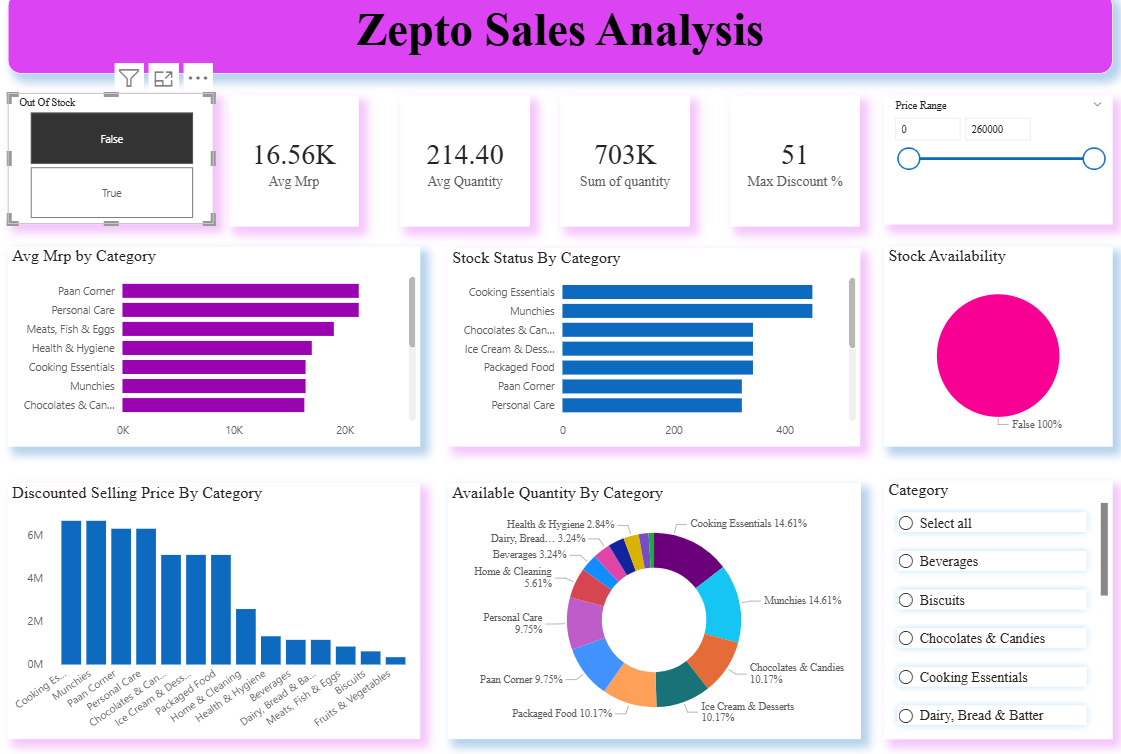

What the dashboard file says about the page in this screenshot:
{"tool":"powerbi","page":{"name":"Page 1","canvas":[1280,900],"ordinal":0},"visuals":[{"type":"textbox","box":[9.6,0,1259.7,91.9],"z":0},{"type":"card","fields":{"Values":["zepto_v2.Avg Mrp"]},"box":[262.3,116.9,148.2,149.7],"z":1000},{"type":"card","fields":{"Values":["zepto_v2.Avg Quantity"]},"box":[457.6,116.9,148.2,149.7],"z":2000},{"type":"card","fields":{"Values":["Sum(zepto_v2.quantity)"]},"box":[640,116.9,148.2,149.7],"z":3000},{"type":"clusteredBarChart","fields":{"Y":["zepto_v2.Avg Mrp"],"Category":["zepto_v2.Category"]},"box":[9.6,289.5,470.7,227.8],"z":4000},{"type":"pieChart","title":"Stock Availability ","fields":{"Category":["zepto_v2.outOfStock"],"Y":["CountNonNull(zepto_v2.quantity)"]},"box":[1008.6,289.5,260.7,227.8],"z":5000},{"type":"listSlicer","fields":{"Values":["zepto_v2.Category"]},"box":[1009.2,555.9,260.8,295.1],"z":6000},{"type":"card","fields":{"Values":["zepto_v2.Max Discount %"]},"box":[833.9,116.9,148.2,149.7],"z":7000},{"type":"slicer","fields":{"Values":["zepto_v2.outOfStock"]},"box":[10,114,235.2,149.7],"z":8000},{"type":"clusteredBarChart","title":"Stock Status By Category","fields":{"Category":["zepto_v2.Category"],"Y":["CountNonNull(zepto_v2.outOfStock)"]},"box":[511.8,290.9,470.7,226.4],"z":9000},{"type":"clusteredColumnChart","title":"Discounted Selling Price By Category","fields":{"Category":["zepto_v2.Category"],"Y":["Sum(zepto_v2.discountedSellingPrice)"]},"box":[10,558.8,470.4,292.2],"z":10000},{"type":"donutChart","title":"Available Quantity By Category","fields":{"Category":["zepto_v2.Category"],"Y":["Sum(zepto_v2.availableQuantity)"]},"box":[512,559,471,292],"z":10001},{"type":"slicer","fields":{"Values":["zepto_v2.mrp"]},"box":[1009.2,116.9,260.8,146.8],"z":10002}]}

Visuals, with their boxes on the page's 1280x900 design canvas (x1, y1, x2, y2). These are canvas units, not pixel positions in the 1121x754 screenshot, which may show the page scaled, cropped or inside an application window:
textbox: [left=10, top=0, right=1269, bottom=92]
card - zepto_v2.Avg Mrp: [left=262, top=117, right=410, bottom=267]
card - zepto_v2.Avg Quantity: [left=458, top=117, right=606, bottom=267]
card - Sum(zepto_v2.quantity): [left=640, top=117, right=788, bottom=267]
clusteredBarChart - zepto_v2.Avg Mrp x zepto_v2.Category: [left=10, top=290, right=480, bottom=517]
"Stock Availability " pieChart: [left=1009, top=290, right=1269, bottom=517]
listSlicer - zepto_v2.Category: [left=1009, top=556, right=1270, bottom=851]
card - zepto_v2.Max Discount %: [left=834, top=117, right=982, bottom=267]
slicer - zepto_v2.outOfStock: [left=10, top=114, right=245, bottom=264]
"Stock Status By Category" clusteredBarChart: [left=512, top=291, right=982, bottom=517]
"Discounted Selling Price By Category" clusteredColumnChart: [left=10, top=559, right=480, bottom=851]
"Available Quantity By Category" donutChart: [left=512, top=559, right=983, bottom=851]
slicer - zepto_v2.mrp: [left=1009, top=117, right=1270, bottom=264]
